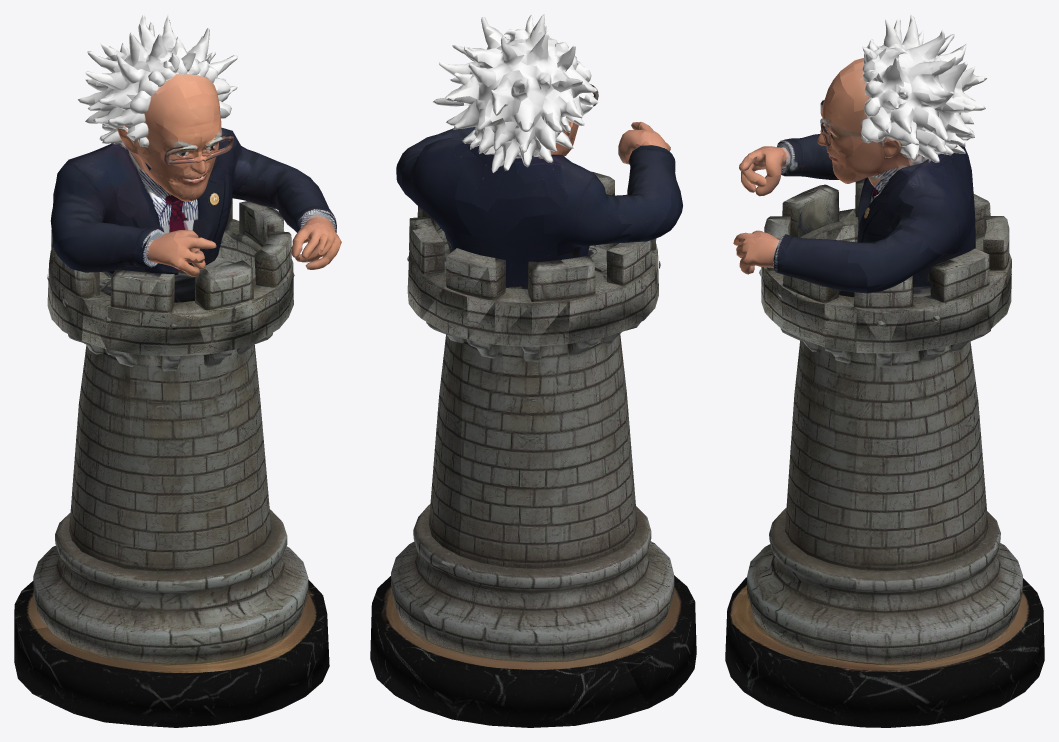
File: left-rook.glb
3 renders of one model, left to right at view 1: azimuth 30°, elevation 25°; view 2: azimuth 150°, elevation 25°; view 3: azimuth 270°, elevation 25°, orthographic. The views are drawn at different scales.
Size of the model in its own units: 0.457 by 1 by 0.4561.
1 material, 1 textured.
